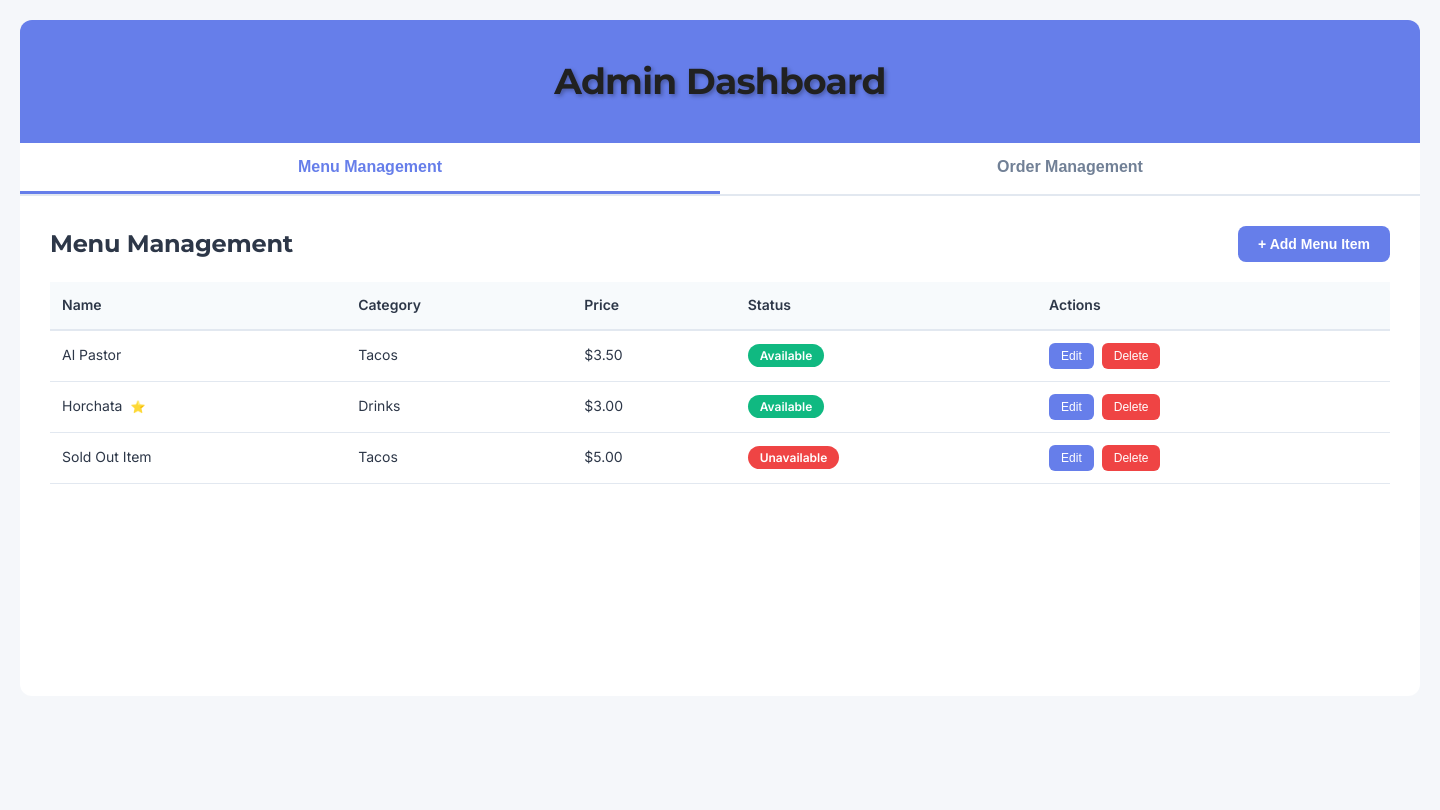
Test: AdminDashboard Page › edits an existing menu item
The width and height of the screenshot is (1440, 810).
Click the button "Edit" in the row of "Al Pastor": (1071, 356) left=1049, top=343, right=1094, bottom=369
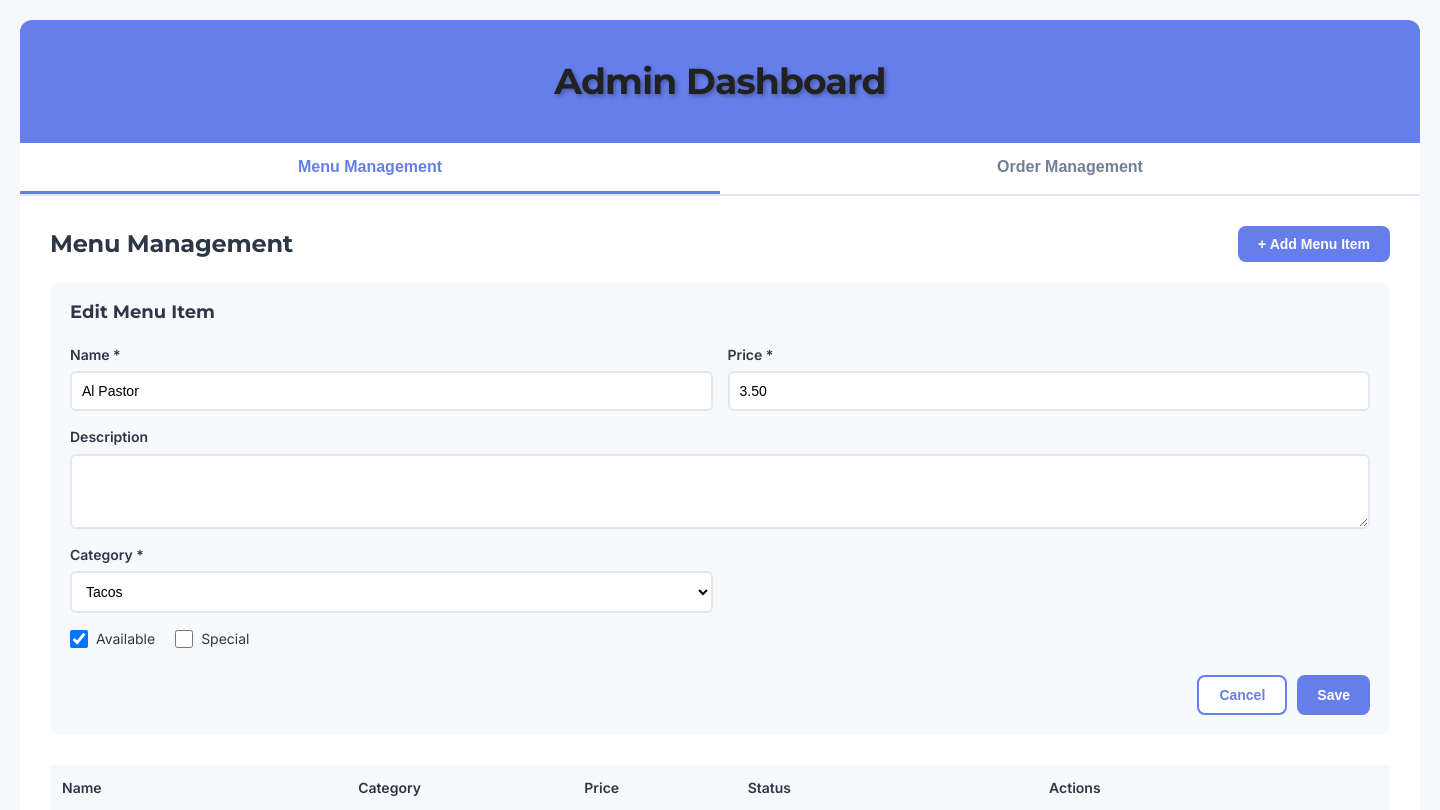
Now the heading "Edit Menu Item" is shown, box left=70, top=301, right=215, bottom=323
Now the field labelled "Name *" holds "Al Pastor", box left=70, top=371, right=712, bottom=411
Replace the text in the number field labelled "Price *" with "3.75": (1049, 391) left=728, top=371, right=1370, bottom=411
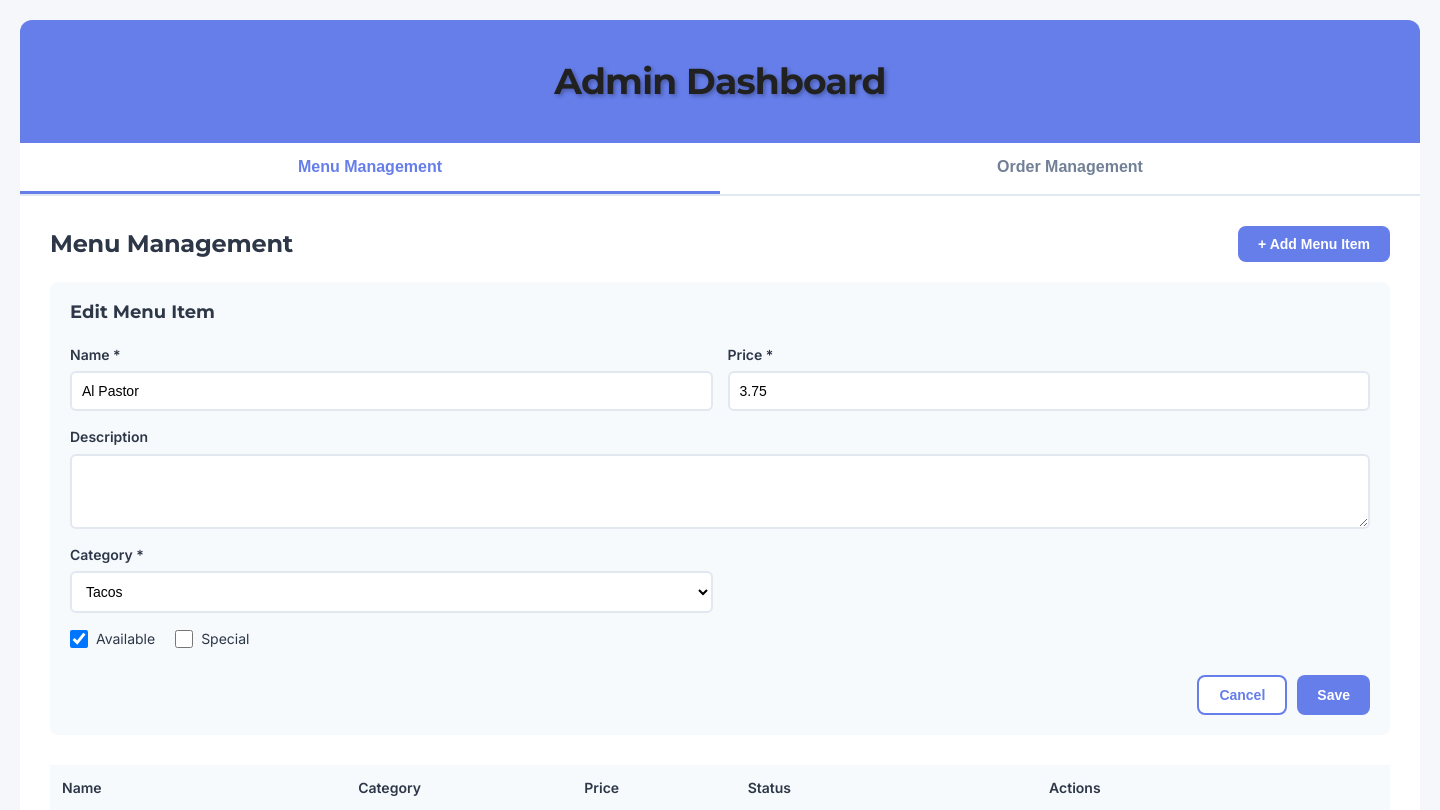
Click the button "Save": (1334, 695) left=1297, top=675, right=1370, bottom=715
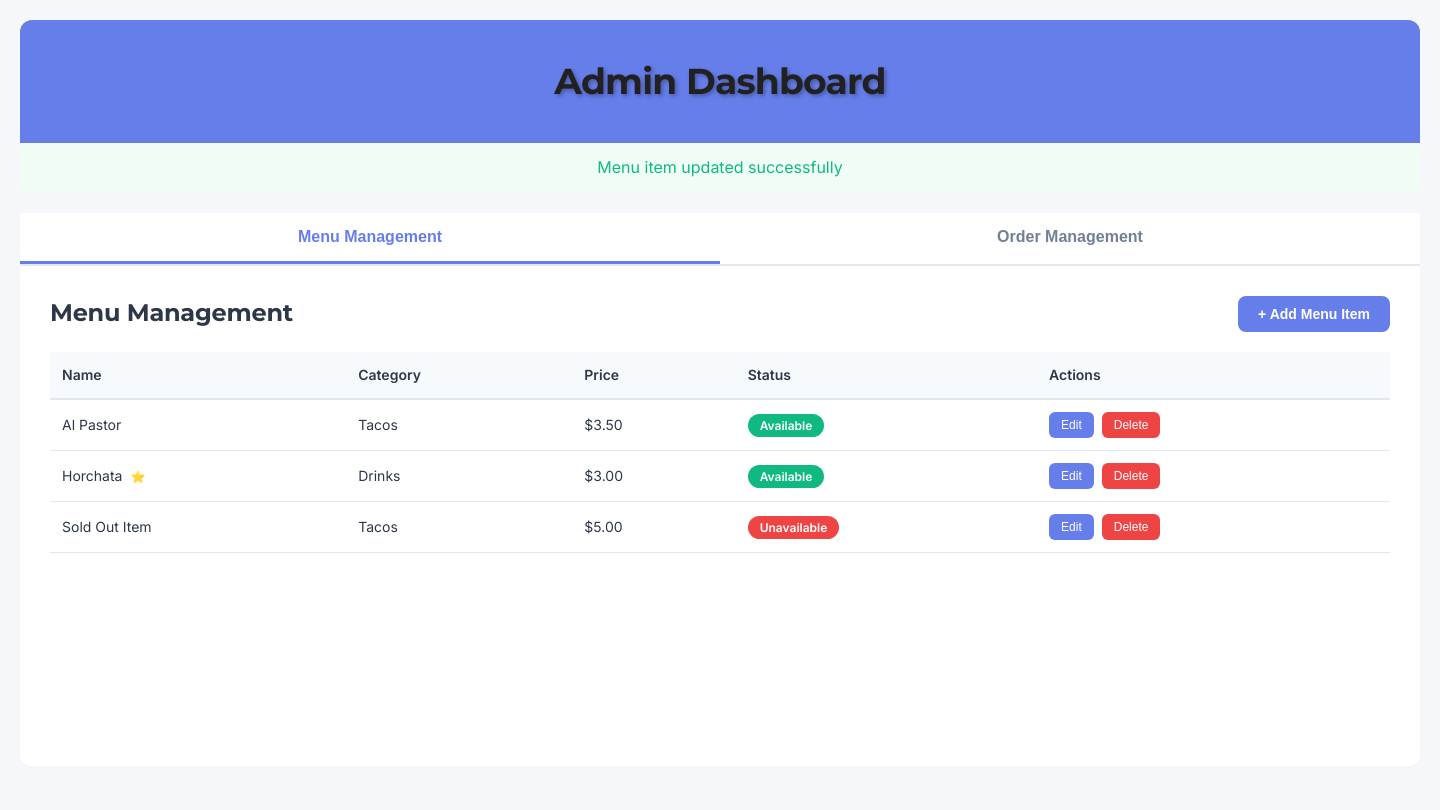
Now the text "Menu item updated successfully" is shown, box left=20, top=143, right=1420, bottom=193
